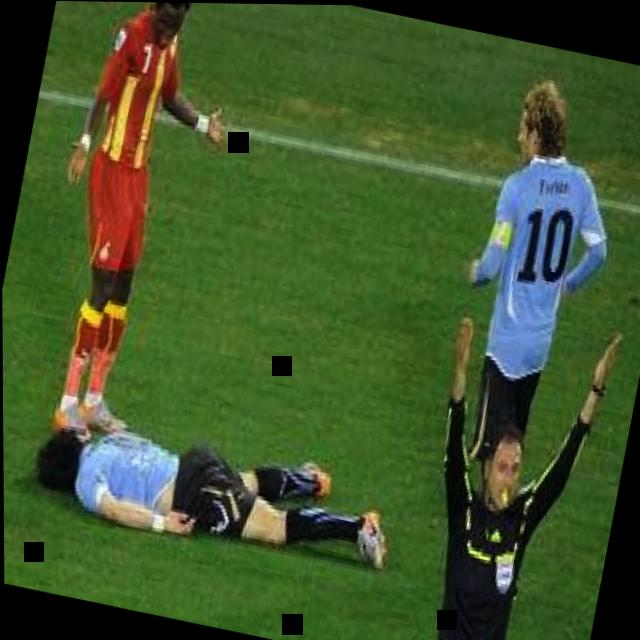Fall-Detected: (16, 373, 401, 584)
